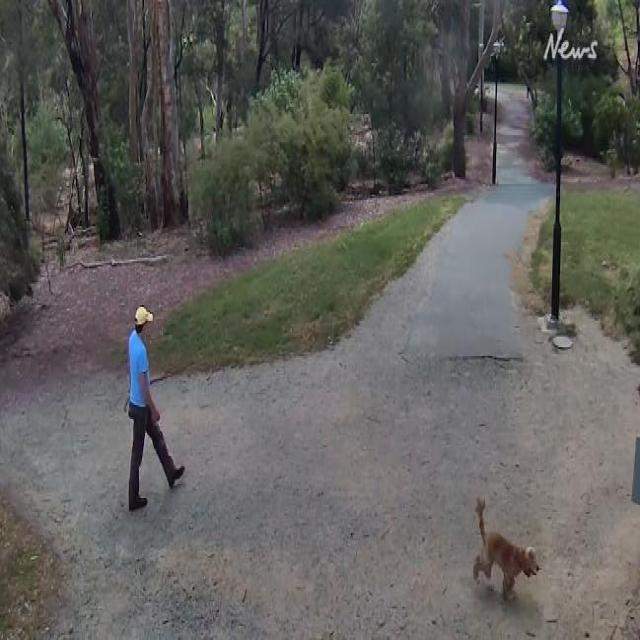standing: (128, 307, 183, 510)
